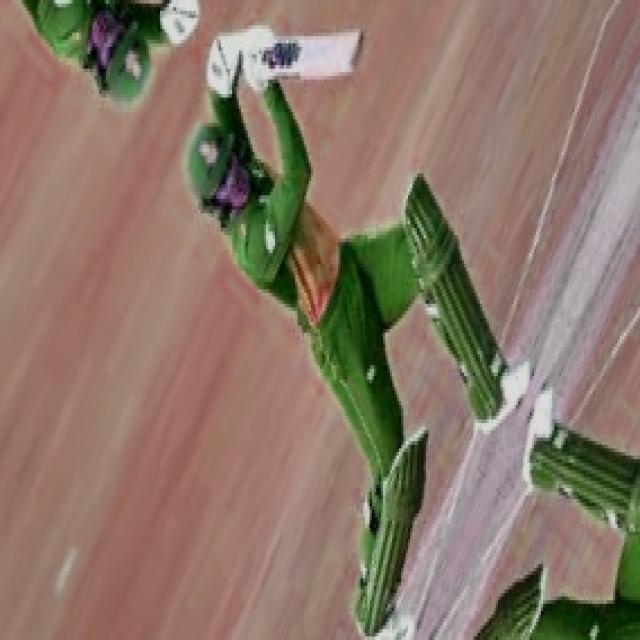toe: (336, 24, 370, 76)
